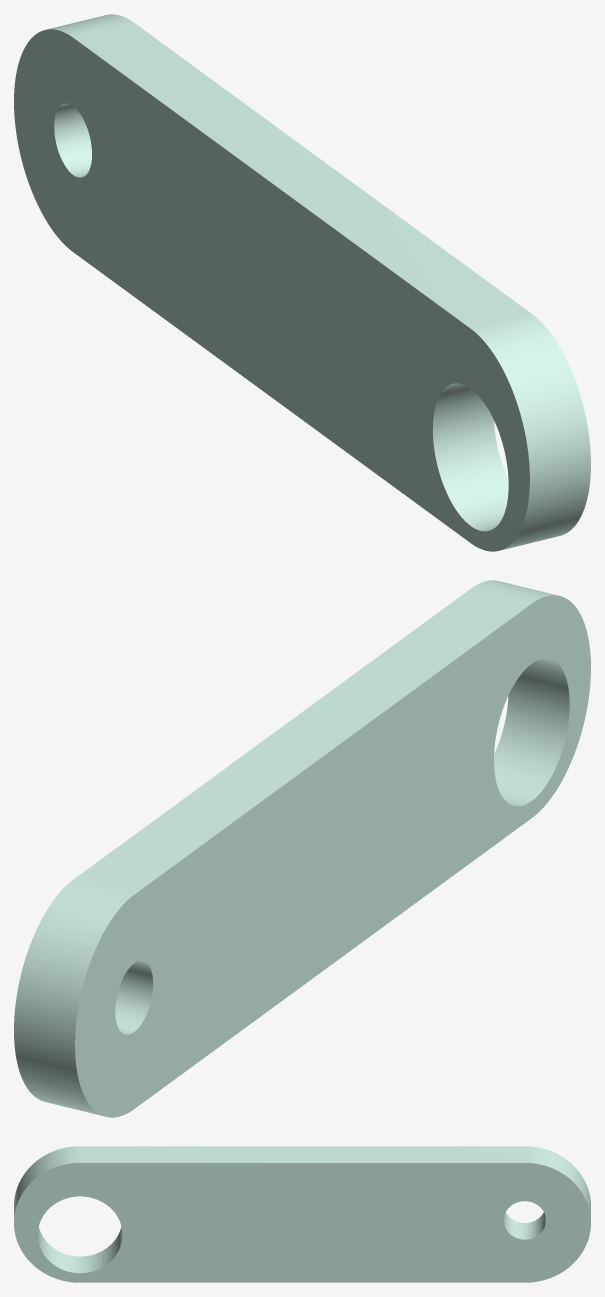
3 renders of one model, top to bottom at view 1: azimuth 30°, elevation 25°; view 2: azimuth 150°, elevation 25°; view 3: azimuth 270°, elevation 25°, orthographic. The views are drawn at different scales.
Parts seen in each view (by area): view 1: Renderer Node; view 2: Renderer Node; view 3: Renderer Node.
Boxes of the visible parts, <box> form: Renderer Node: <box>14,14,590,551</box>; Renderer Node: <box>14,580,590,1117</box>; Renderer Node: <box>14,1146,590,1282</box>.
Bounding box in the file's own units: 0.0938 × 0.3146 × 1.37.
